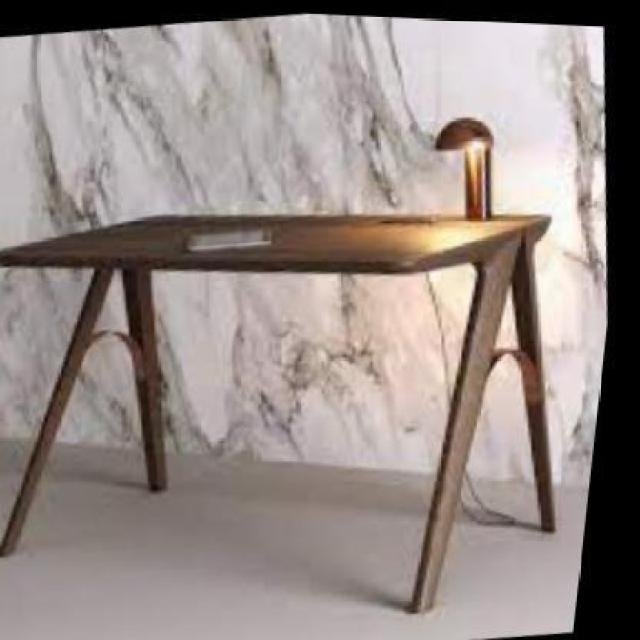tables: (0, 209, 557, 614)
